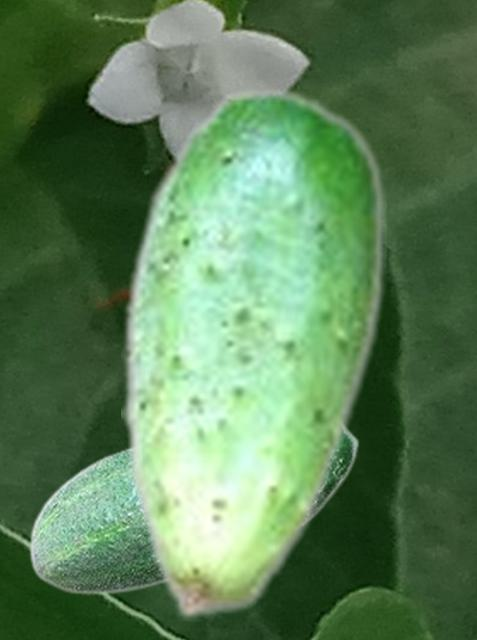cucumber: (121, 85, 385, 620), (28, 427, 359, 594)
